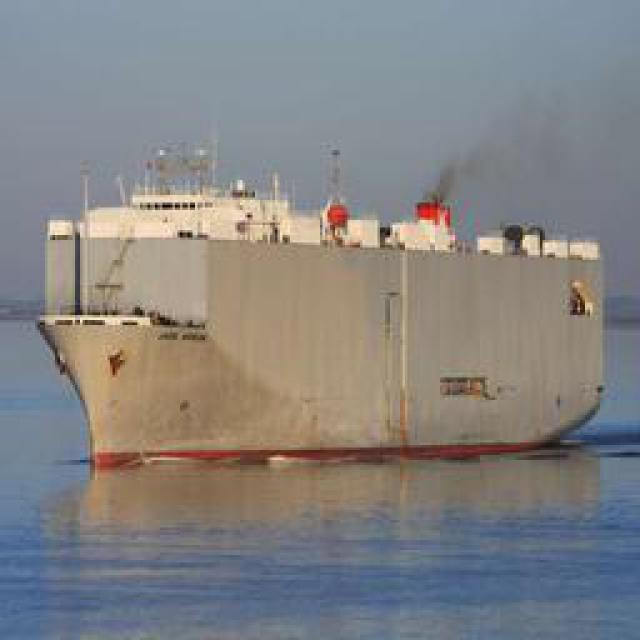Ship: (33, 158, 621, 466)
